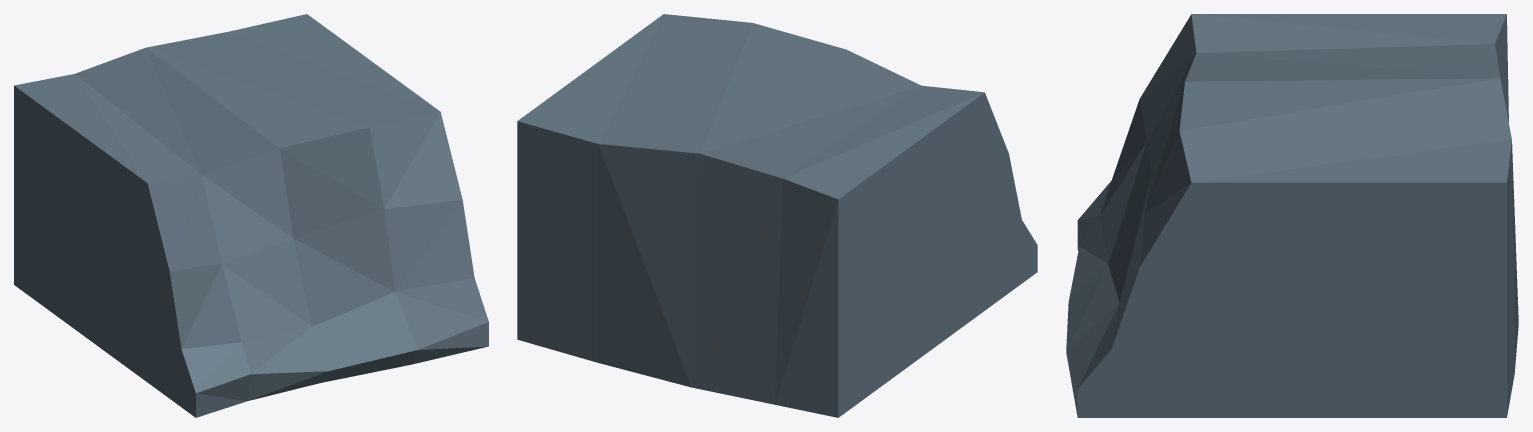
The model's file is EM_ShoreCliffStraight.fbx.
3 views of the same model, side by side, from view 1: azimuth 30°, elevation 25°; view 2: azimuth 150°, elevation 25°; view 3: azimuth 270°, elevation 25° (orthographic). The views are drawn at different scales.
Parts seen in each view (by area): view 1: EM_ShoreCliffStraight; view 2: EM_ShoreCliffStraight; view 3: EM_ShoreCliffStraight.
Boxes of the visible parts, x1=… form: EM_ShoreCliffStraight: x1=14, y1=14, x2=488, y2=417; EM_ShoreCliffStraight: x1=517, y1=14, x2=1037, y2=417; EM_ShoreCliffStraight: x1=1066, y1=14, x2=1518, y2=417.
Bounding box in the file's own units: 2 × 1.35 × 2.27.
